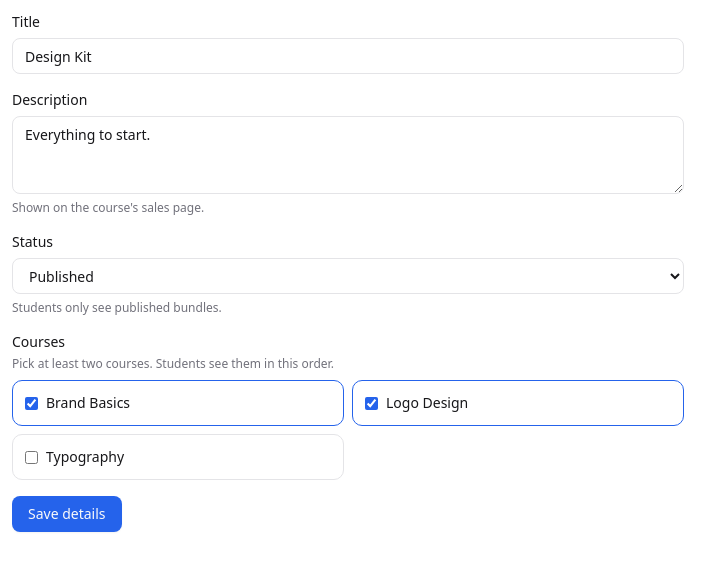
Test: BundleForm › says the courses were rejected
Click the button "Save details": (67, 514) 12,496 -> 122,532
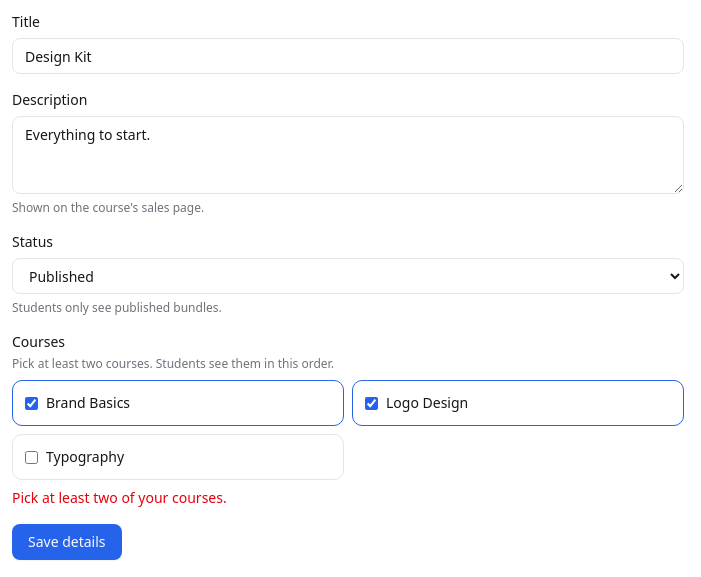
Check: the message reads "Pick at least two of your courses.", box 12,488 -> 227,507
